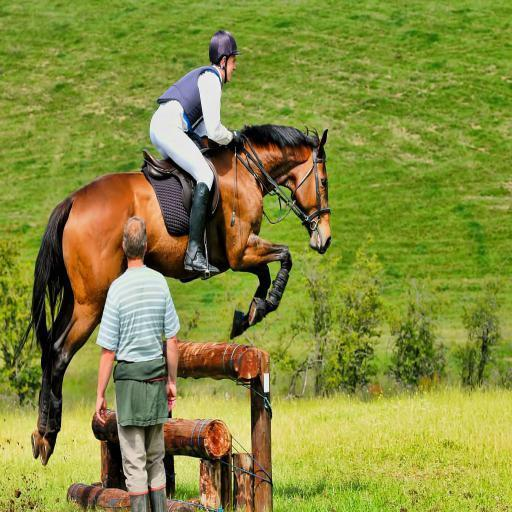horse: (10, 121, 332, 465)
